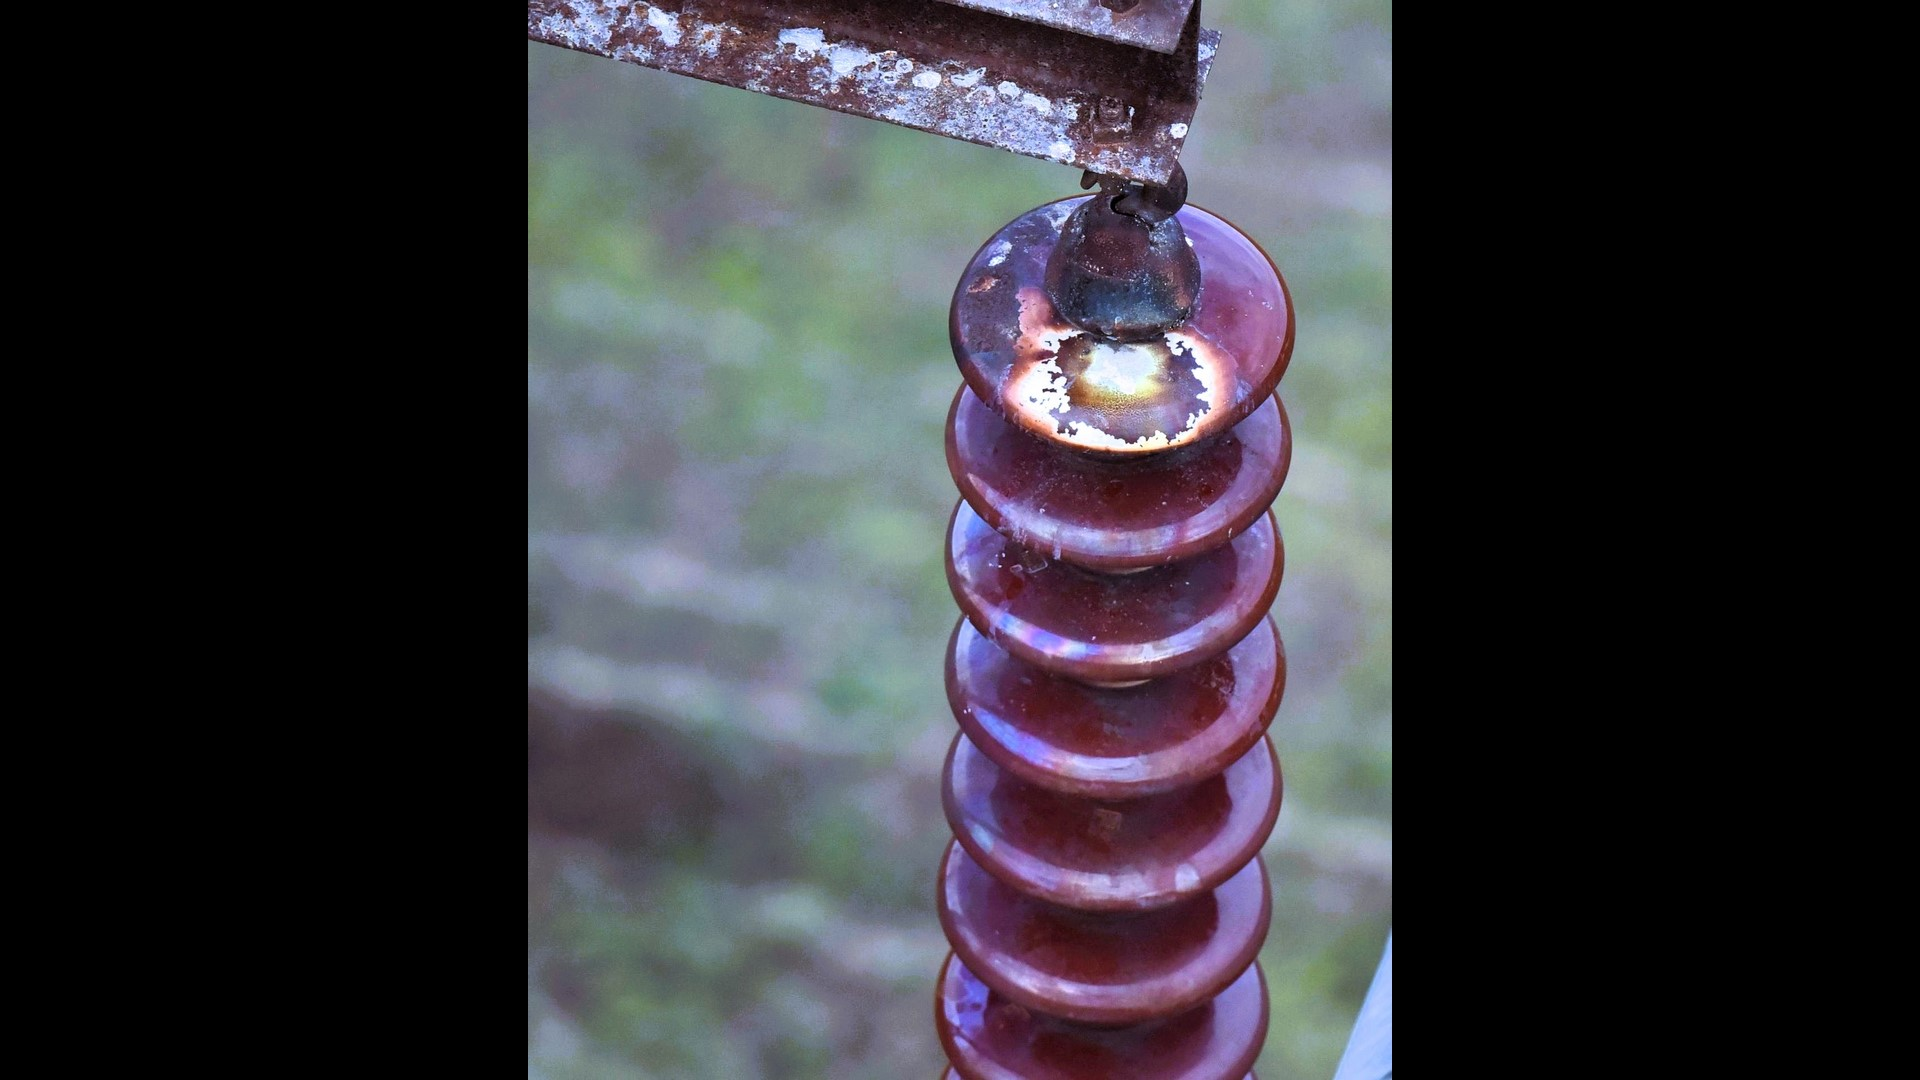Insulator flashover: (938, 182, 1305, 471)
